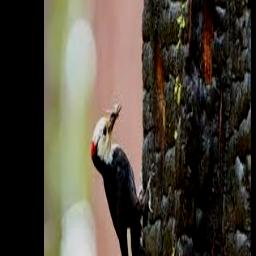Woodpecker: (92, 99, 155, 256)
